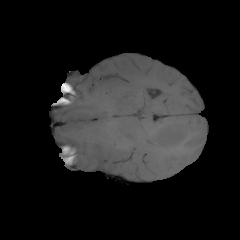glioma: (146, 121, 189, 153)
